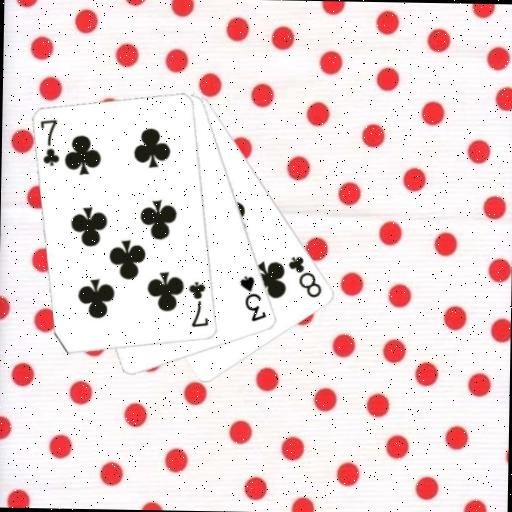3S: (236, 273, 269, 324)
7C: (37, 116, 63, 168), (185, 278, 211, 329)
8C: (284, 252, 324, 300)
